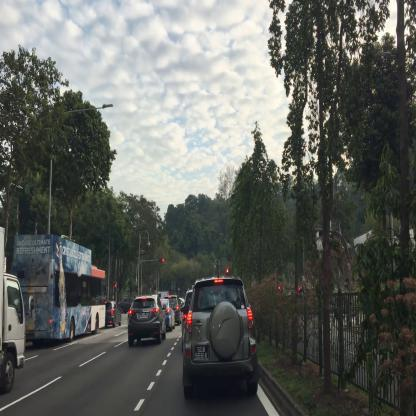red_traffic_light: (158, 258, 164, 262)
